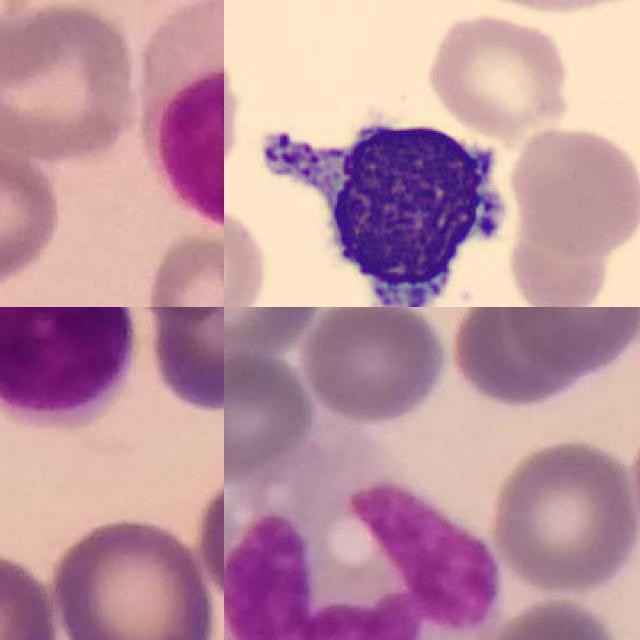Lymphocyte: (253, 100, 518, 307), (137, 0, 224, 237), (0, 307, 133, 432)
Monocyte: (224, 423, 507, 640)
RBC: (421, 9, 575, 138), (506, 124, 640, 258), (224, 194, 272, 307)
